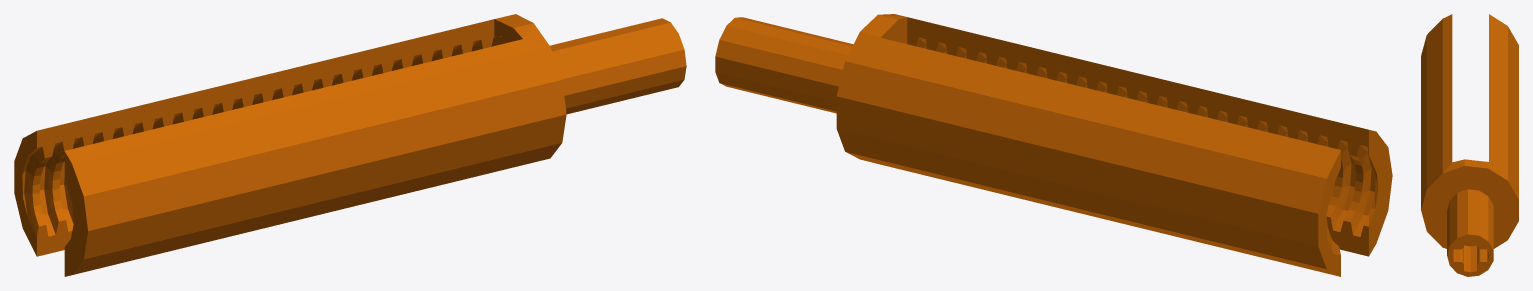
Rendered from Or_4638507_c)_AVV.fbx.
3 views of the same model, side by side, from view 1: azimuth 30°, elevation 25°; view 2: azimuth 150°, elevation 25°; view 3: azimuth 270°, elevation 25° (orthographic). The views are drawn at different scales.
Parts seen in each view (by area): view 1: Or_4638507_c__AVV; view 2: Or_4638507_c__AVV; view 3: Or_4638507_c__AVV.
Part boxes in pixels (box(x1,y1,x2,y2)): Or_4638507_c__AVV: box(14, 14, 686, 276); Or_4638507_c__AVV: box(715, 14, 1392, 276); Or_4638507_c__AVV: box(1421, 14, 1518, 276).
Size of the model in its own units: 6.2 by 1.29 by 1.28.
